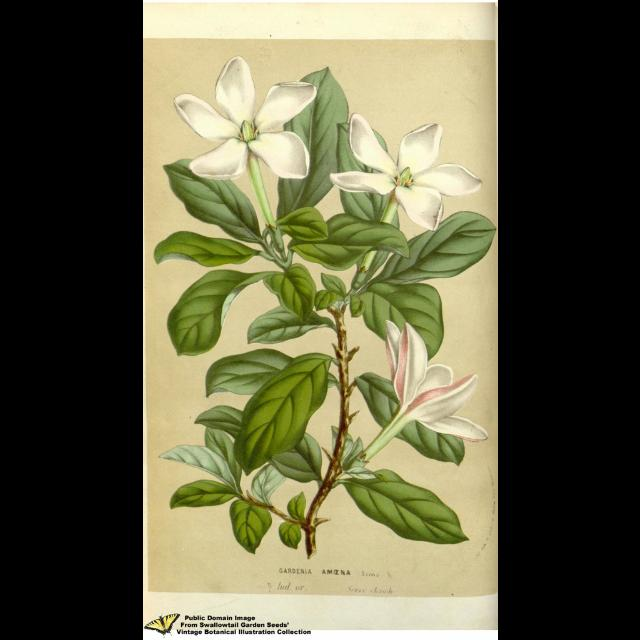Flower: (174, 51, 330, 181), (357, 319, 485, 475), (328, 110, 486, 232)
